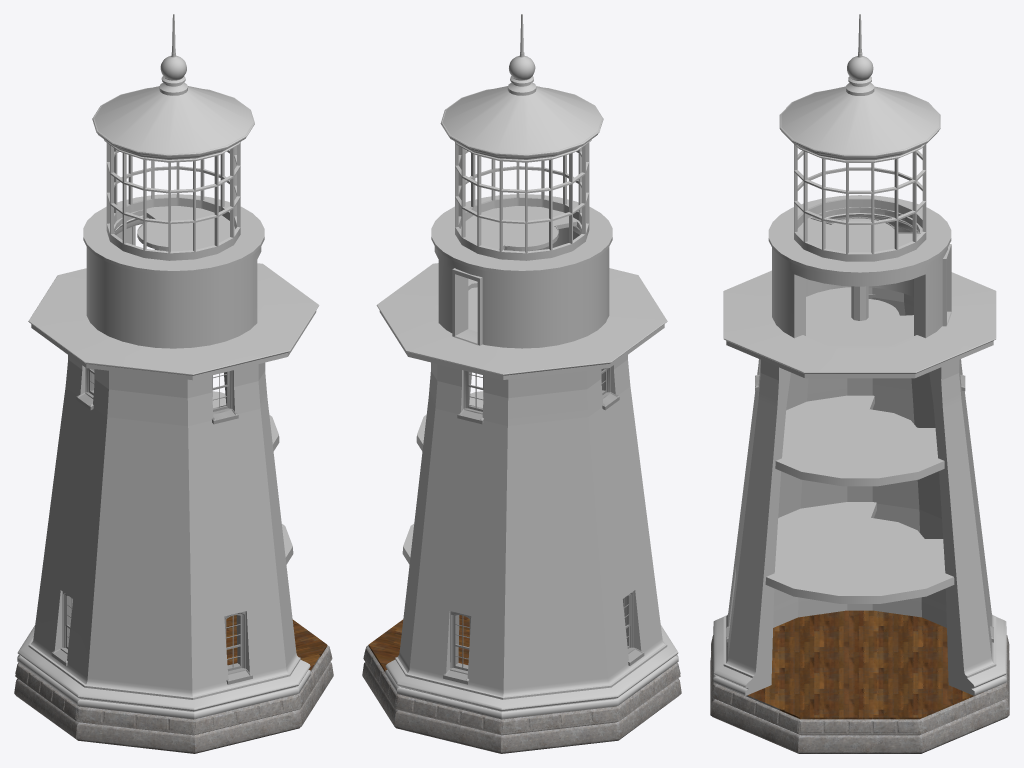
Rendered from towerTexturedBumped.fbx.
The picture shows the model from 3 angles, left to right: view 1: azimuth 30°, elevation 25°; view 2: azimuth 150°, elevation 25°; view 3: azimuth 270°, elevation 25°; orthographic projection.
Visible parts, largest first — view 1: tower, keepersWorkroom, LightHousing, base, lowerTowerWindow, thirdFloorWindows; view 2: tower, keepersWorkroom, LightHousing, base, lowerTowerWindow, thirdFloorWindows; view 3: tower, base, LightHousing, keepersWorkroom, secondFloor, thirdFloor, fourthFloor.
Boxes of the visible parts, box(x1,y1,x2,y2) form: tower: box(17, 263, 319, 718); keepersWorkroom: box(83, 194, 264, 348); LightHousing: box(92, 14, 254, 260); base: box(14, 615, 333, 753); lowerTowerWindow: box(51, 592, 252, 684); thirdFloorWindows: box(76, 368, 238, 424); tower: box(376, 263, 678, 718); keepersWorkroom: box(431, 194, 612, 348); LightHousing: box(440, 14, 603, 260); base: box(362, 615, 681, 753); lowerTowerWindow: box(443, 591, 644, 684); thirdFloorWindows: box(457, 367, 619, 424); tower: box(713, 270, 1006, 695); base: box(710, 610, 1009, 753); LightHousing: box(779, 14, 940, 261); keepersWorkroom: box(768, 195, 951, 338); secondFloor: box(765, 502, 954, 603); thirdFloor: box(775, 395, 944, 486); fourthFloor: box(806, 287, 913, 345).
Size of the model in its own units: 831 by 2072 by 831.
